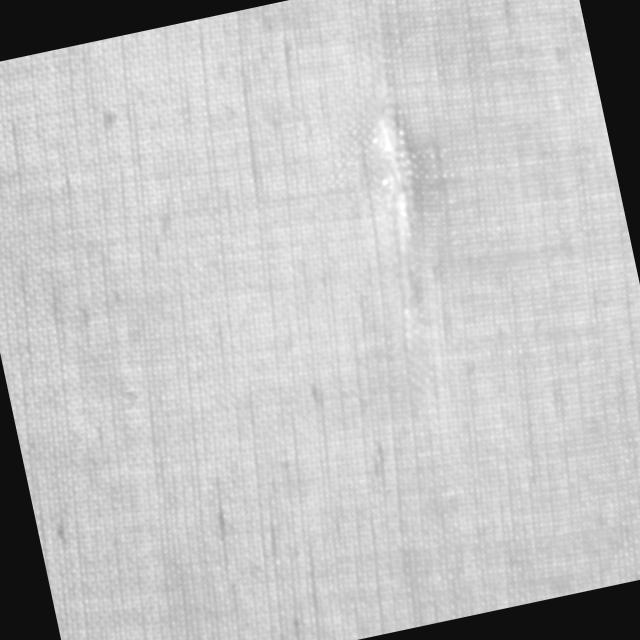thread error: (348, 93, 466, 334)
